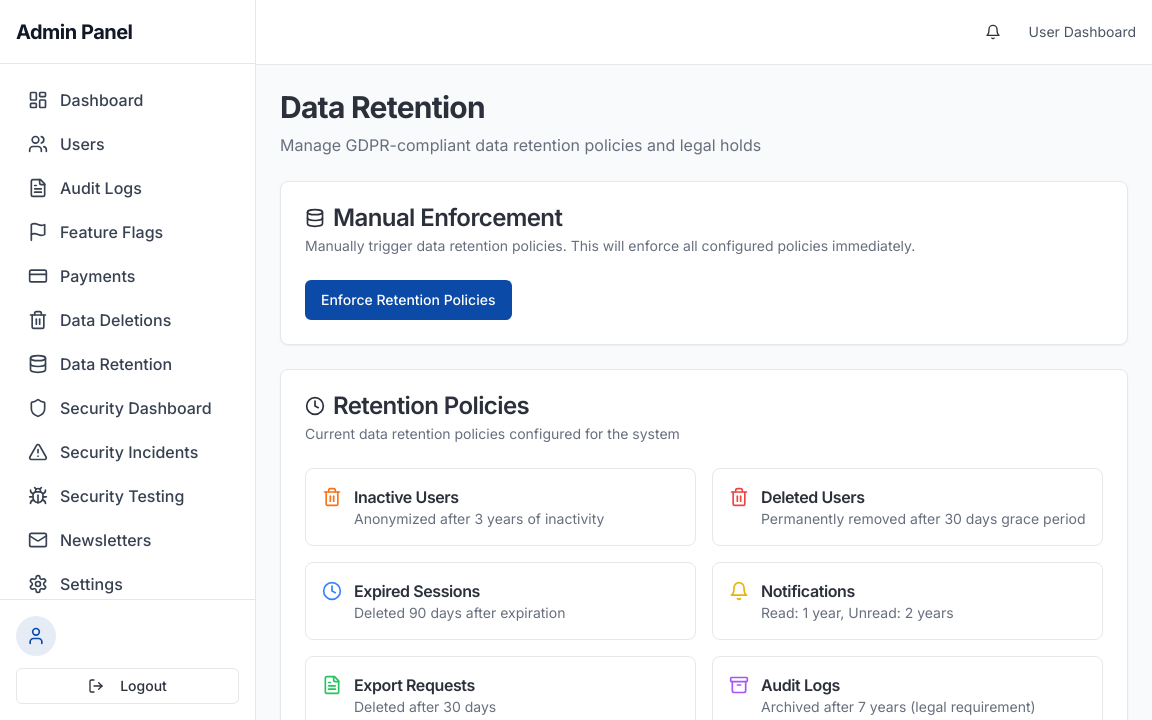
Test: AdminDataRetention › should display enforcement results
Click the button "Enforce Retention Policies". click: coordinates (408, 300)
box: [305,280,512,320]
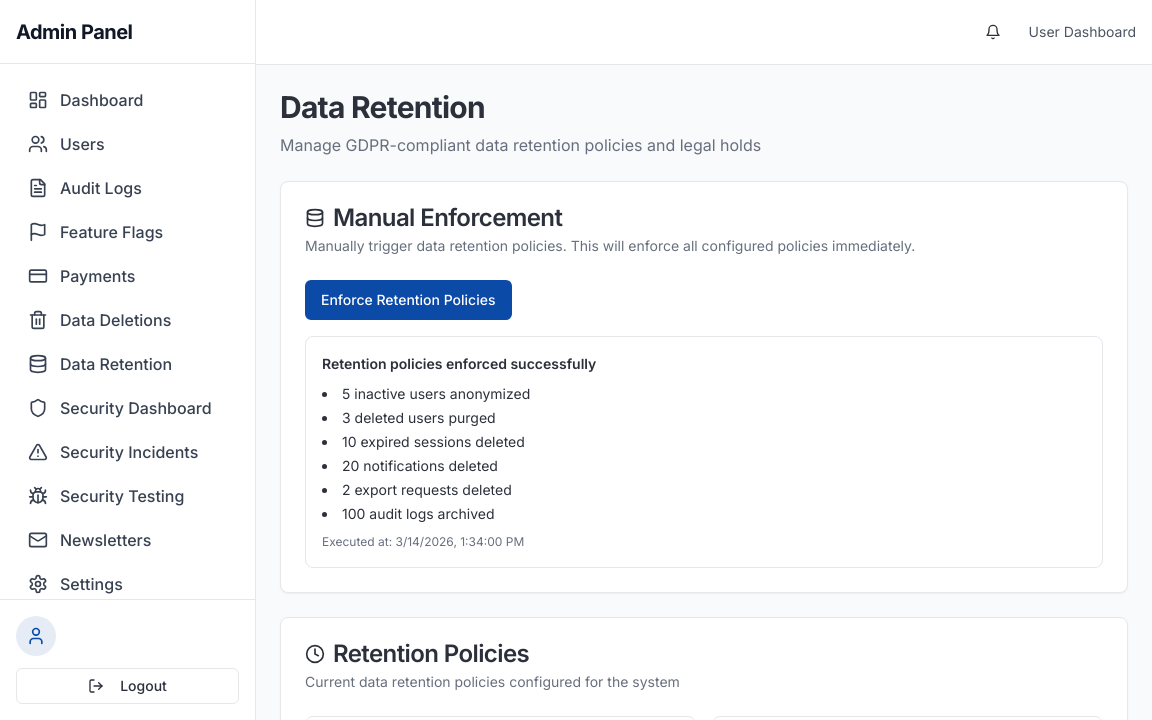
Check: the list item "5 inactive users anonymized" is shown, box [342,385,530,402]
Check: the list item "3 deleted users purged" is shown, box [342,409,496,426]
